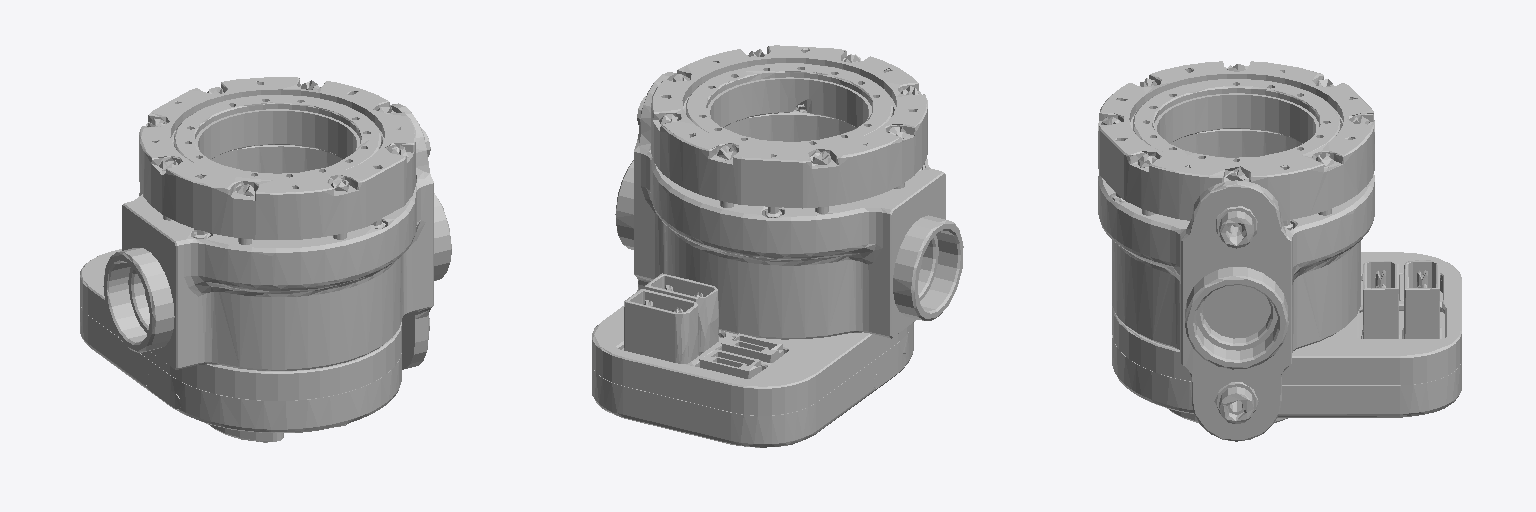
Rendered from head_roll_link.obj.
3 renders of one model, left to right at view 1: azimuth 30°, elevation 25°; view 2: azimuth 150°, elevation 25°; view 3: azimuth 270°, elevation 25°, orthographic.
Parts seen in each view (by area): view 1: head_roll_link; view 2: head_roll_link; view 3: head_roll_link.
Part boxes in pixels (bbox=[...]): head_roll_link: bbox=[80, 77, 451, 442]; head_roll_link: bbox=[592, 45, 963, 447]; head_roll_link: bbox=[1098, 61, 1461, 441].
Bounding box in the file's own units: 0.0498 × 0.0444 × 0.0525.